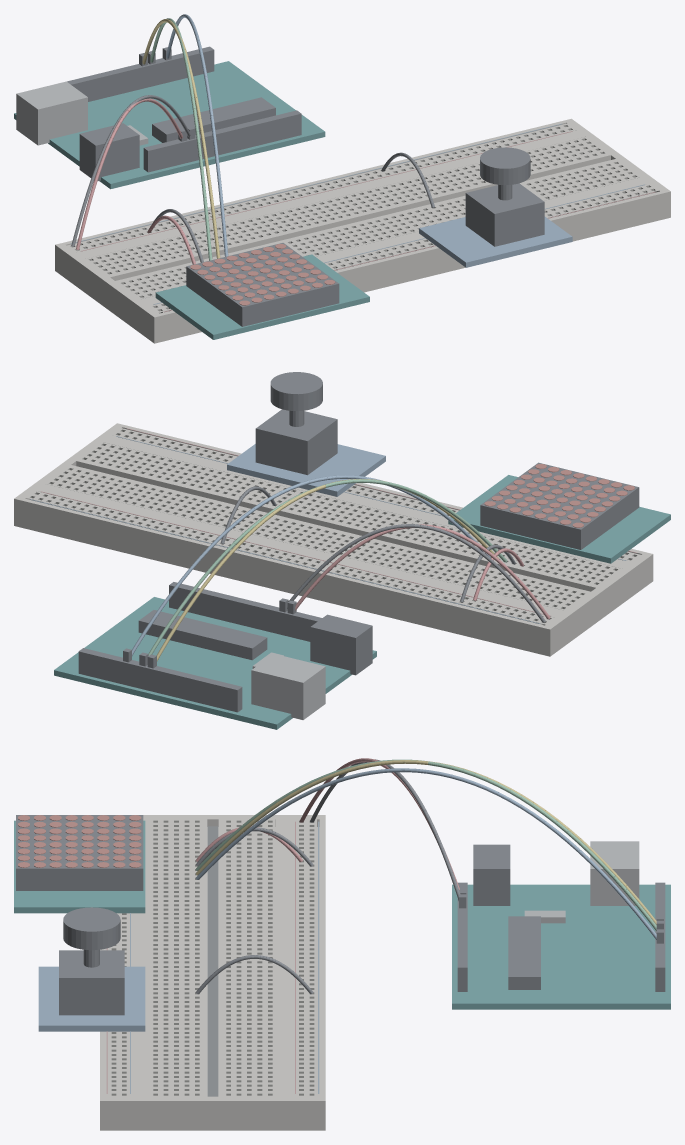
Rendered from step-11.glb.
The picture shows the model from 3 angles, top to bottom: view 1: azimuth 30°, elevation 25°; view 2: azimuth 150°, elevation 25°; view 3: azimuth 270°, elevation 25°; orthographic projection. The views are drawn at different scales.
Parts seen in each view (by area): view 1: breadboard__mesh, uno__mesh, matrix__mesh, joystick__mesh, matrix_clock__mesh, matrix_select__mesh, matrix_data__mesh, power_supply__mesh, ground_supply__mesh; view 2: breadboard__mesh, uno__mesh, matrix__mesh, joystick__mesh, matrix_data__mesh, matrix_clock__mesh, matrix_select__mesh, ground_supply__mesh, power_supply__mesh; view 3: breadboard__mesh, uno__mesh, matrix__mesh, joystick__mesh, matrix_clock__mesh, matrix_data__mesh, matrix_select__mesh, ground_supply__mesh, joystick_ground__mesh, power_supply__mesh.
Part boxes in pixels (left/top/right/bottom): breadboard__mesh: left=55, top=118, right=670, bottom=343; uno__mesh: left=14, top=46, right=325, bottom=189; matrix__mesh: left=155, top=243, right=369, bottom=339; joystick__mesh: left=419, top=147, right=572, bottom=267; matrix_clock__mesh: left=162, top=14, right=228, bottom=256; matrix_select__mesh: left=139, top=19, right=220, bottom=258; matrix_data__mesh: left=148, top=18, right=212, bottom=260; power_supply__mesh: left=76, top=98, right=187, bottom=249; ground_supply__mesh: left=71, top=95, right=195, bottom=246; breadboard__mesh: left=14, top=423, right=653, bottom=656; uno__mesh: left=54, top=582, right=376, bottom=729; matrix__mesh: left=448, top=462, right=670, bottom=563; joystick__mesh: left=227, top=372, right=385, bottom=496; matrix_data__mesh: left=139, top=479, right=507, bottom=666; matrix_clock__mesh: left=123, top=475, right=490, bottom=662; matrix_select__mesh: left=147, top=479, right=498, bottom=668; ground_supply__mesh: left=279, top=524, right=545, bottom=622; power_supply__mesh: left=287, top=524, right=550, bottom=619; breadboard__mesh: left=100, top=815, right=325, bottom=1130; uno__mesh: left=452, top=841, right=670, bottom=1009; matrix__mesh: left=14, top=815, right=145, bottom=913; joystick__mesh: left=38, top=907, right=145, bottom=1031; matrix_clock__mesh: left=196, top=768, right=663, bottom=943; matrix_data__mesh: left=195, top=759, right=663, bottom=931; matrix_select__mesh: left=195, top=760, right=663, bottom=924; ground_supply__mesh: left=310, top=759, right=466, bottom=908; joystick_ground__mesh: left=195, top=955, right=313, bottom=994; power_supply__mesh: left=299, top=758, right=466, bottom=894.
Bounding box in the file's own units: 0.165 × 0.048 × 0.1602.
